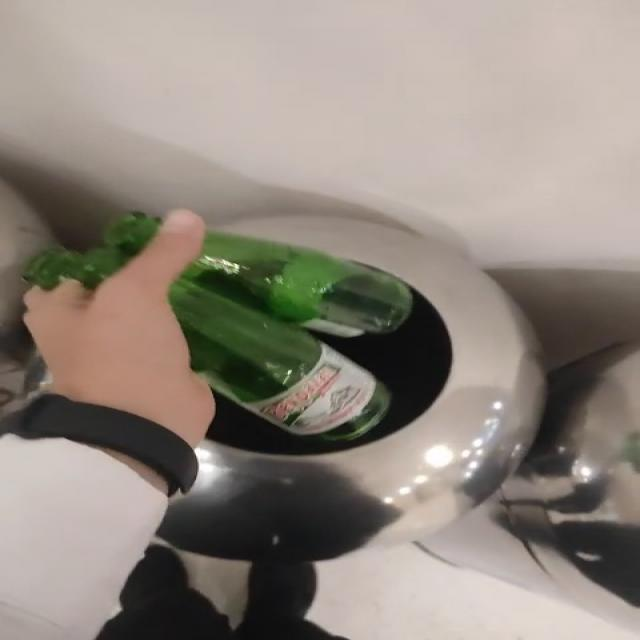glass: (169, 231, 412, 440), (25, 212, 157, 289)
